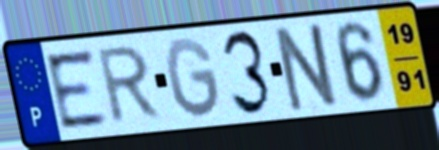3: (216, 28, 273, 118)
6: (333, 17, 389, 105)
E: (41, 46, 112, 133)
G: (163, 34, 225, 122)
N: (272, 19, 343, 115)
R: (95, 42, 165, 127)
